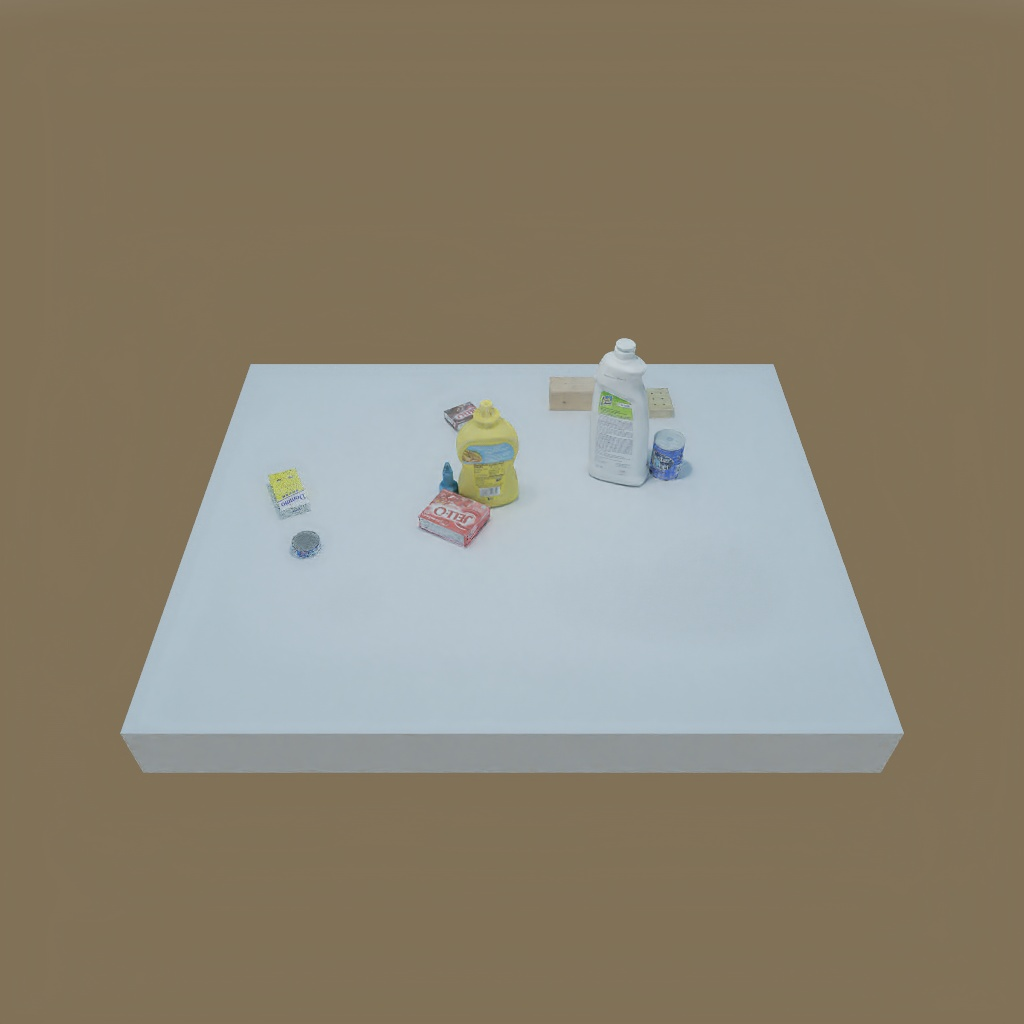gelatin_box: (420, 490, 488, 545)
master_chef_can: (650, 422, 686, 482)
mustard_bottle: (454, 405, 518, 510)
nine_hole_peg_test: (640, 385, 683, 422)
pudding_box: (445, 399, 478, 426)
wood_block: (539, 371, 614, 416)
